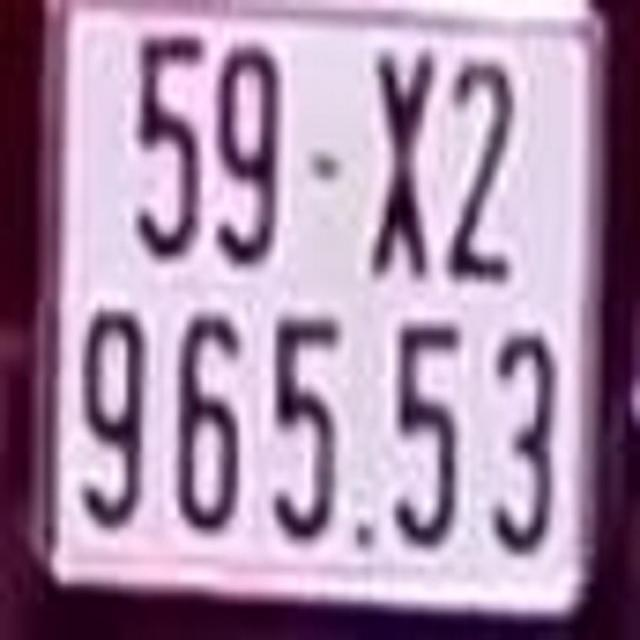2: (449, 64, 517, 283)
3: (490, 330, 557, 552)
5: (395, 321, 465, 544), (268, 318, 337, 542), (137, 39, 199, 259)
6: (176, 311, 240, 534)
9: (80, 306, 151, 533), (214, 42, 284, 269)
X: (376, 51, 428, 282)
